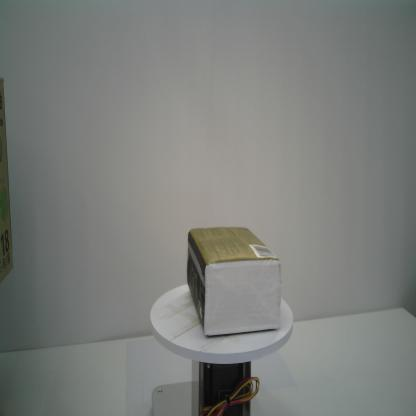Tissue: (186, 226, 282, 337)
